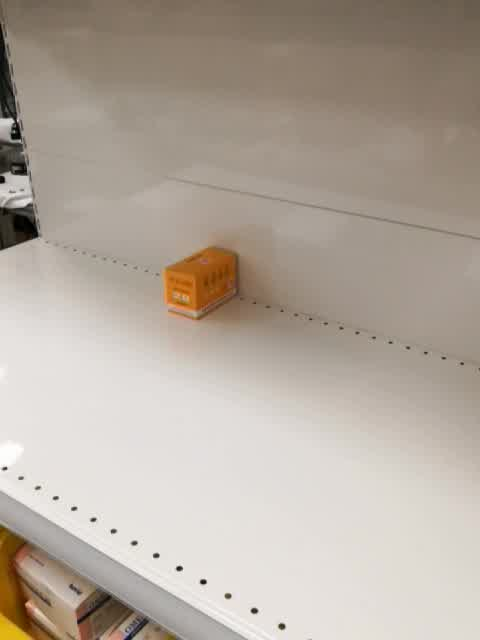jasminetea: (163, 245, 239, 321)
